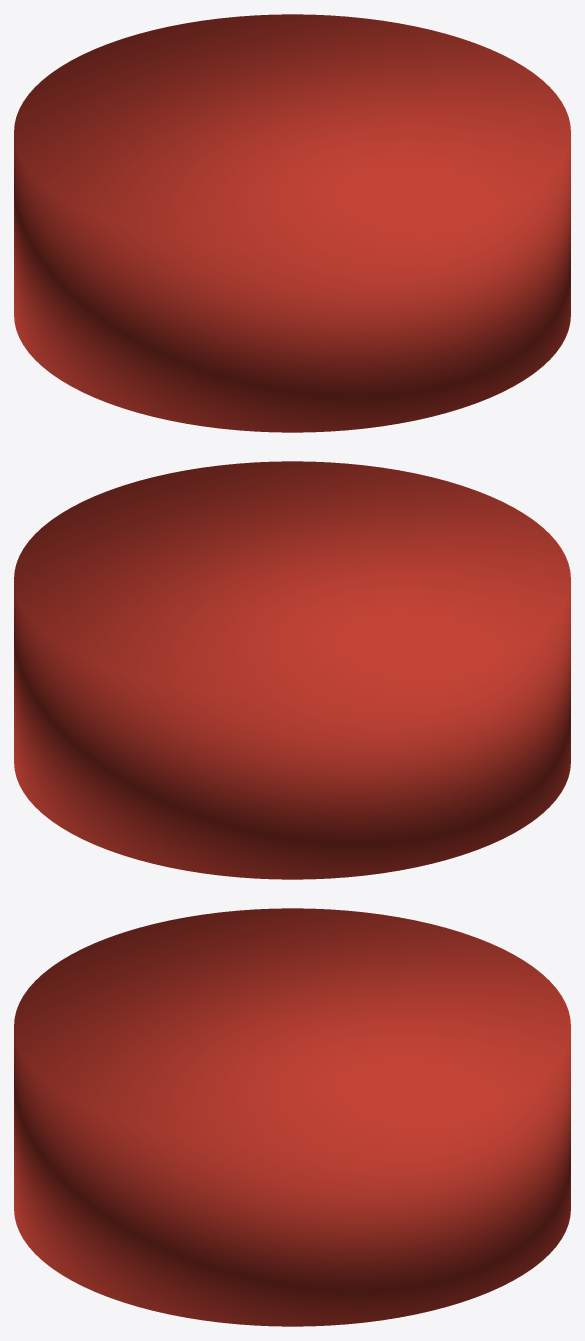
The model's file is air_marker.glb.
3 renders of one model, top to bottom at view 1: azimuth 30°, elevation 25°; view 2: azimuth 150°, elevation 25°; view 3: azimuth 270°, elevation 25°, orthographic.
Parts seen in each view (by area): view 1: air_marker; view 2: air_marker; view 3: air_marker.
Part boxes in pixels (bbox=[...]): air_marker: bbox=[14, 14, 570, 432]; air_marker: bbox=[14, 461, 570, 879]; air_marker: bbox=[14, 908, 570, 1326].
Bounding box in the file's own units: 0.0166 × 0.006 × 0.0166.
Materials: 2 (1 with a texture image).
